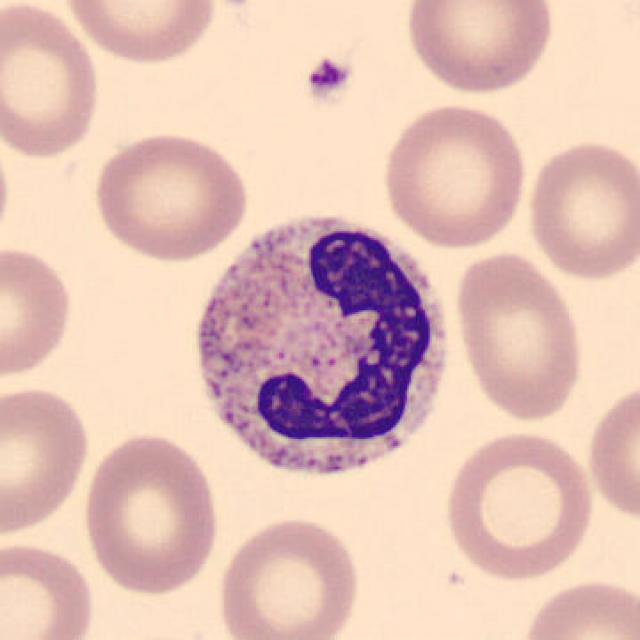Neutrophil: (178, 197, 468, 499)
Platelets: (302, 53, 356, 104)
RBC: (439, 425, 599, 583), (78, 428, 222, 598), (450, 248, 588, 425), (377, 99, 531, 250), (89, 127, 252, 264), (213, 513, 364, 640), (523, 136, 638, 284), (0, 0, 103, 162), (400, 0, 558, 97), (0, 380, 92, 541), (0, 240, 78, 384), (58, 0, 220, 67), (0, 537, 99, 640), (583, 376, 638, 527), (516, 575, 638, 640), (0, 125, 14, 261)
